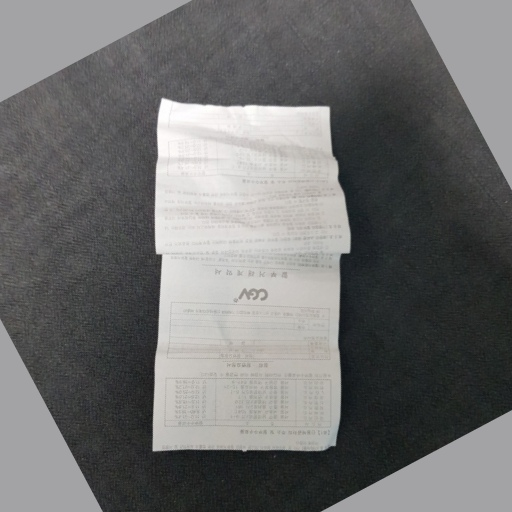Paper_3: (140, 79, 368, 456)
